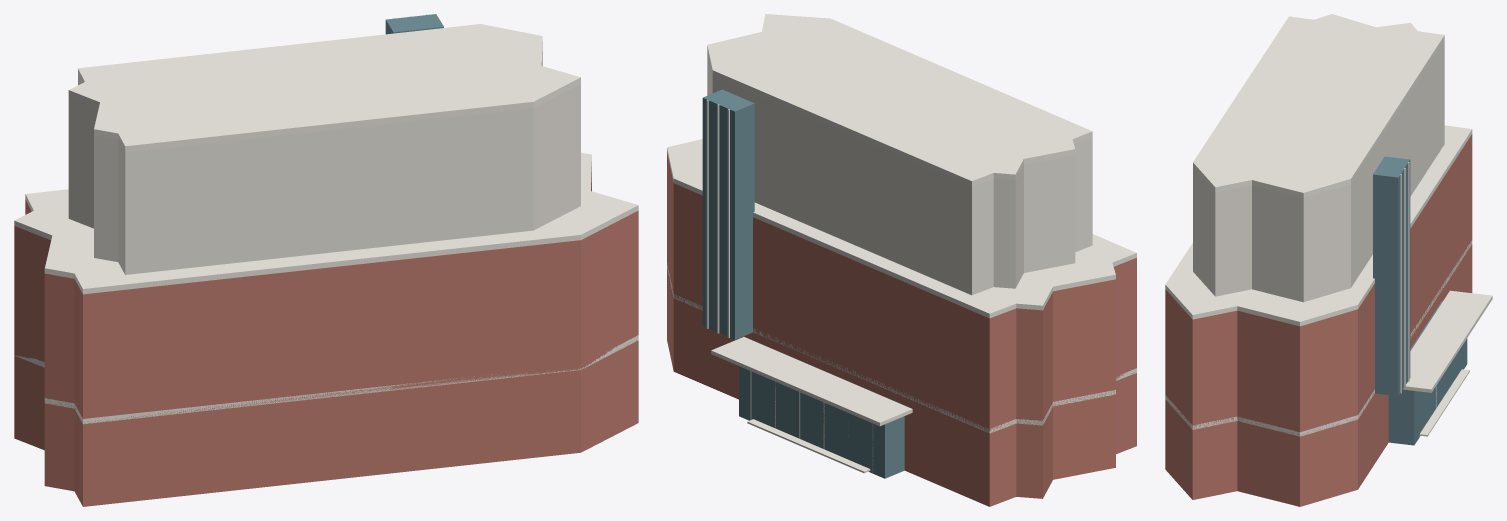
The picture shows the model from 3 angles, left to right: view 1: azimuth 30°, elevation 25°; view 2: azimuth 150°, elevation 25°; view 3: azimuth 270°, elevation 25°; orthographic projection. The views are drawn at different scales.
Visible parts, largest first — view 1: NWH_lower, NWH_upper, NWH_podium, NWH_roof, NWH_band_1, NWH_band_0, NWH_core; view 2: NWH_lower, NWH_upper, NWH_roof, NWH_podium, NWH_core, NWH_band_1, NWH_atrium, NWH_canopy, NWH_band_0, NWH_step_1, NWH_core_mull_1, NWH_core_mull_0 (+1 smaller); view 3: NWH_lower, NWH_roof, NWH_upper, NWH_podium, NWH_band_1, NWH_core, NWH_canopy, NWH_atrium, NWH_band_0, NWH_step_1, NWH_core_mull_0, NWH_core_mull_1 (+1 smaller).
Part boxes in pixels (x1=…): NWH_lower: x1=14, y1=166, x2=638, y2=423; NWH_upper: x1=68, y1=47, x2=580, y2=274; NWH_podium: x1=14, y1=340, x2=638, y2=506; NWH_roof: x1=68, y1=24, x2=580, y2=152; NWH_band_1: x1=14, y1=152, x2=638, y2=294; NWH_band_0: x1=14, y1=335, x2=638, y2=424; NWH_core: x1=385, y1=14, x2=443, y2=34; NWH_lower: x1=667, y1=152, x2=1136, y2=433; NWH_upper: x1=707, y1=51, x2=1092, y2=295; NWH_roof: x1=707, y1=14, x2=1092, y2=186; NWH_podium: x1=667, y1=268, x2=1136, y2=506; NWH_core: x1=702, y1=89, x2=754, y2=339; NWH_band_1: x1=667, y1=139, x2=1136, y2=318; NWH_atrium: x1=739, y1=366, x2=904, y2=478; NWH_canopy: x1=711, y1=337, x2=912, y2=426; NWH_band_0: x1=667, y1=263, x2=1136, y2=433; NWH_step_1: x1=747, y1=419, x2=870, y2=473; NWH_core_mull_1: x1=717, y1=104, x2=719, y2=333; NWH_core_mull_0: x1=706, y1=100, x2=708, y2=328; NWH_lower: x1=1165, y1=134, x2=1472, y2=436; NWH_roof: x1=1193, y1=14, x2=1444, y2=198; NWH_upper: x1=1193, y1=41, x2=1444, y2=302; NWH_podium: x1=1165, y1=244, x2=1472, y2=506; NWH_band_1: x1=1165, y1=125, x2=1472, y2=326; NWH_core: x1=1373, y1=156, x2=1410, y2=396; NWH_canopy: x1=1403, y1=290, x2=1492, y2=392; NWH_atrium: x1=1388, y1=301, x2=1467, y2=445; NWH_band_0: x1=1165, y1=240, x2=1472, y2=436; NWH_step_1: x1=1419, y1=369, x2=1469, y2=436; NWH_core_mull_0: x1=1400, y1=174, x2=1401, y2=393; NWH_core_mull_1: x1=1404, y1=168, x2=1405, y2=387.
Bounding box in the file's own units: 46.67 × 29.35 × 29.58.
